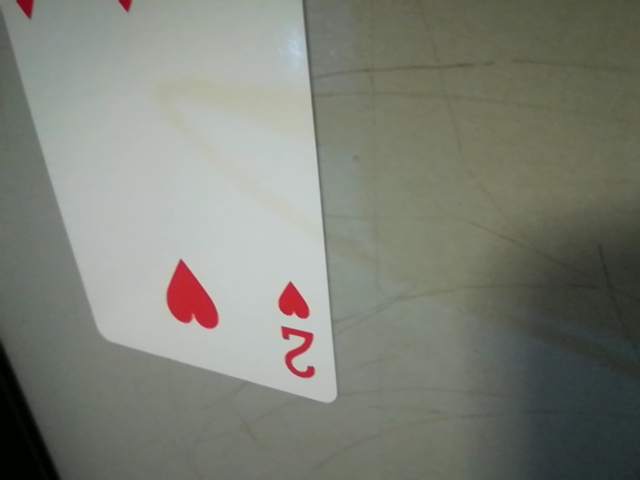hx 2: (265, 271, 330, 391)
